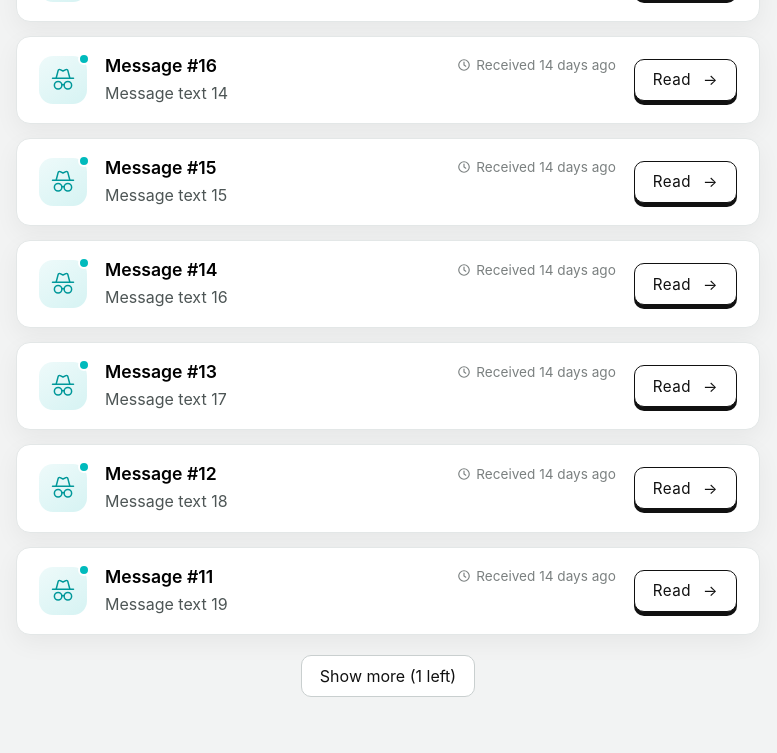
it: CouncilInboxPage › loads older messages with Show more
(page scrolled)
Click the button "Show more (1 left)". click: click(388, 676)
box: [301, 655, 475, 697]
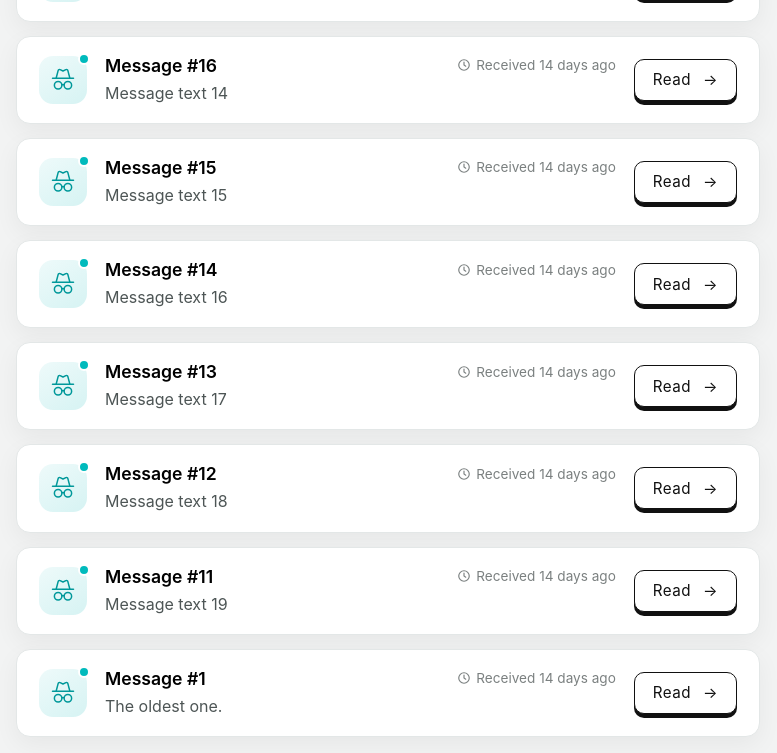
Expected: the heading "Message #1" is shown, [105, 668, 206, 689]
Expected: the button "Show more" is gone
